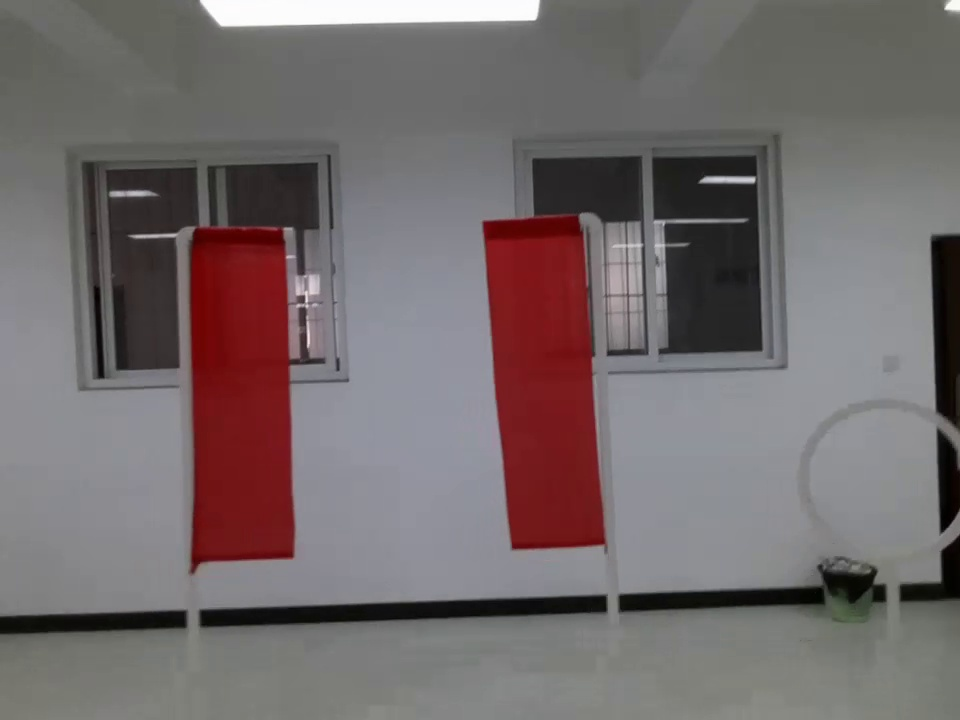qi: (480, 212, 620, 591), (169, 224, 299, 619)
quan: (793, 395, 960, 606)
